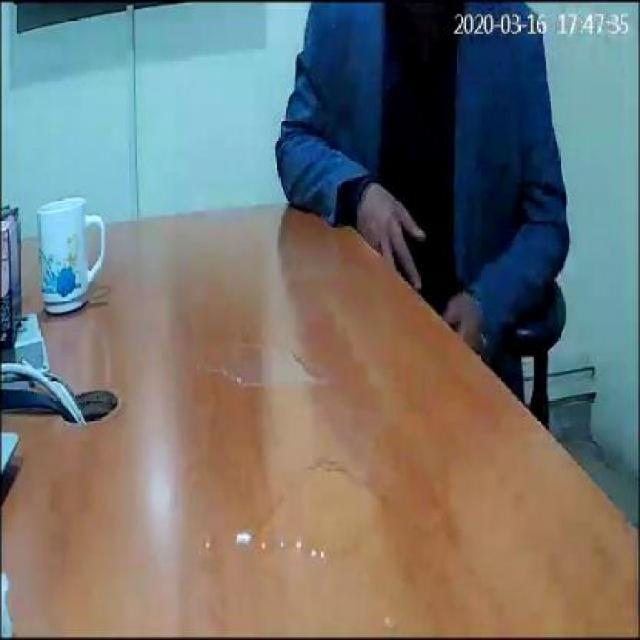spill: (233, 452, 433, 596), (212, 342, 334, 393)
